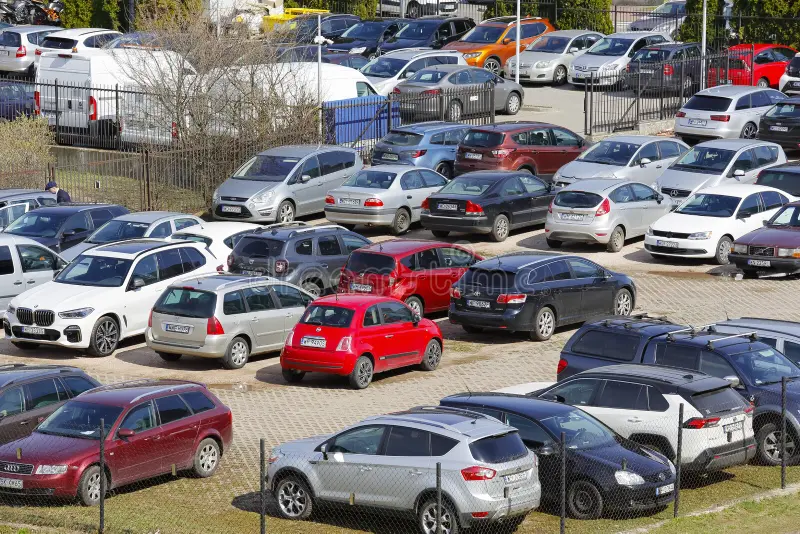Car: (556, 311, 800, 467), (266, 405, 540, 534), (439, 391, 676, 521), (489, 363, 756, 478), (0, 378, 233, 508), (4, 238, 225, 357), (448, 251, 637, 341), (34, 44, 199, 147), (145, 271, 315, 369), (206, 62, 383, 151), (280, 293, 444, 389), (643, 184, 800, 264), (211, 144, 364, 223), (337, 239, 484, 317), (227, 221, 374, 296), (420, 170, 564, 242), (545, 178, 677, 252), (650, 139, 788, 206), (324, 164, 450, 235), (454, 120, 591, 184), (0, 364, 101, 445), (59, 211, 206, 262), (439, 14, 557, 76), (552, 135, 691, 187), (674, 84, 788, 146), (118, 73, 208, 149), (392, 64, 524, 115), (0, 204, 129, 254), (0, 233, 69, 325), (568, 30, 672, 89), (371, 121, 476, 178), (503, 29, 606, 86), (728, 200, 800, 278), (359, 47, 469, 95), (165, 220, 262, 271), (33, 27, 126, 79), (375, 15, 476, 58), (716, 317, 800, 366), (325, 17, 415, 60), (0, 25, 67, 79), (253, 12, 360, 44), (0, 187, 56, 232), (755, 96, 800, 151), (627, 0, 686, 38), (753, 43, 799, 90), (235, 42, 331, 64), (626, 41, 702, 67), (753, 161, 800, 197), (377, 0, 460, 19), (0, 81, 35, 119), (313, 53, 371, 70), (779, 51, 800, 96), (0, 22, 15, 31)
